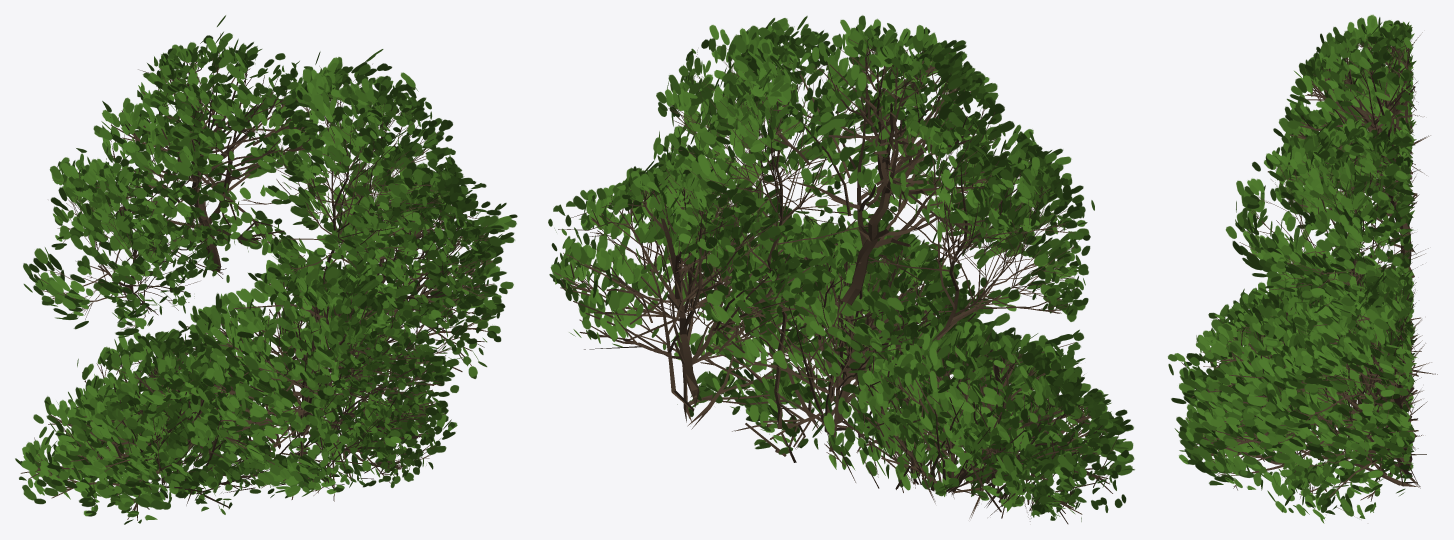
3 renders of one model, left to right at view 1: azimuth 30°, elevation 25°; view 2: azimuth 150°, elevation 25°; view 3: azimuth 270°, elevation 25°, orthographic. The views are drawn at different scales.
Parts seen in each view (by area): view 1: oak 01.001_trunk_Mat.001_0.284; view 2: oak 01.001_trunk_Mat.001_0.284; view 3: oak 01.001_trunk_Mat.001_0.284.
Boxes of the visible parts, <box> form: oak 01.001_trunk_Mat.001_0.284: <box>15,15,517,524</box>; oak 01.001_trunk_Mat.001_0.284: <box>548,15,1134,524</box>; oak 01.001_trunk_Mat.001_0.284: <box>1168,14,1437,523</box>.
Bounding box in the file's own units: 5.6 × 4.54 × 2.63.
Materials: 2 (1 with a texture image).
